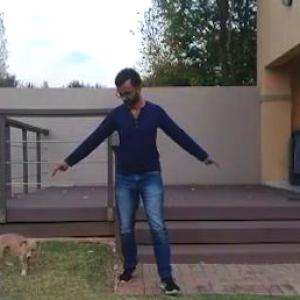land: (70, 61, 268, 298)
